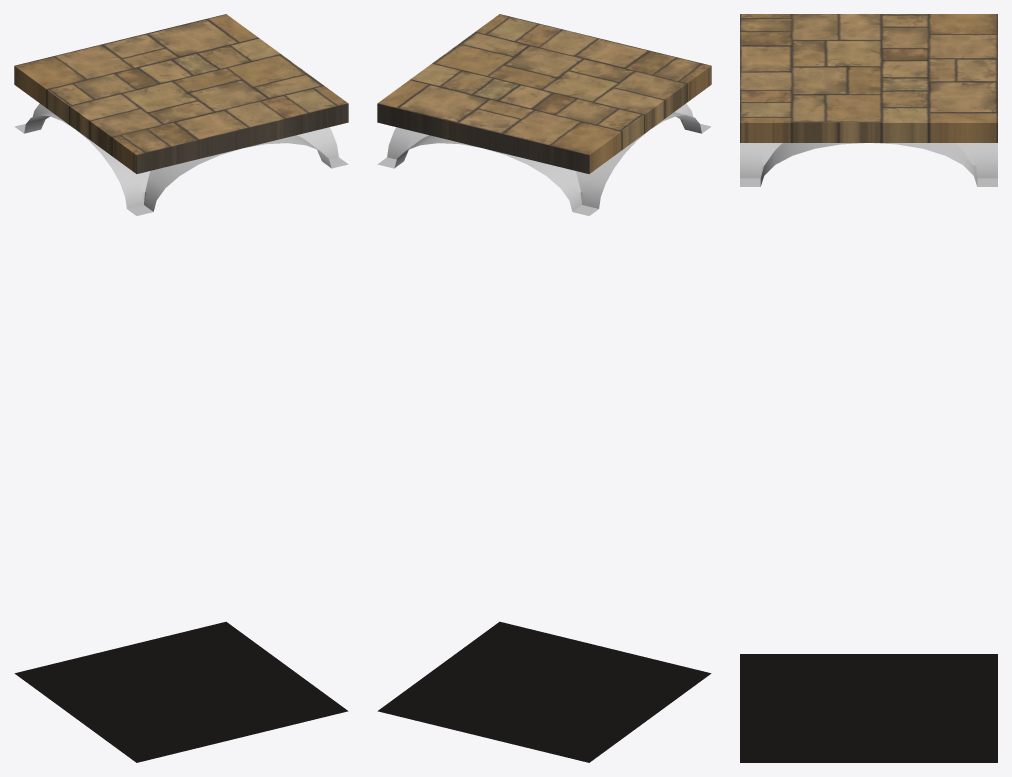
Rendered from AN_CPF.fbx.
The picture shows the model from 3 angles, left to right: view 1: azimuth 30°, elevation 25°; view 2: azimuth 150°, elevation 25°; view 3: azimuth 270°, elevation 25°; orthographic projection. The views are drawn at different scales.
Parts seen in each view (by area): view 1: AN_CPF, AN_PFO1; view 2: AN_CPF, AN_PFO1; view 3: AN_CPF, AN_PFO1.
Part boxes in pixels (left/top/right/bottom): AN_CPF: left=14, top=14, right=348, bottom=215; AN_PFO1: left=14, top=621, right=348, bottom=762; AN_CPF: left=377, top=14, right=711, bottom=215; AN_PFO1: left=377, top=621, right=711, bottom=762; AN_CPF: left=740, top=14, right=997, bottom=186; AN_PFO1: left=740, top=654, right=997, bottom=762.
Size of the model in its own units: 5 by 13.69 by 5.
